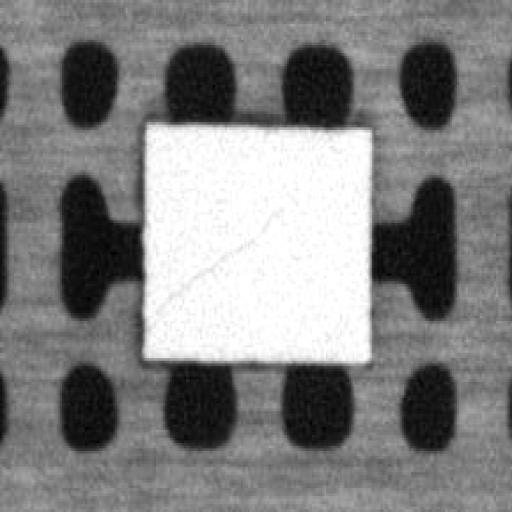DIE_CRACK: (160, 204, 276, 308)
